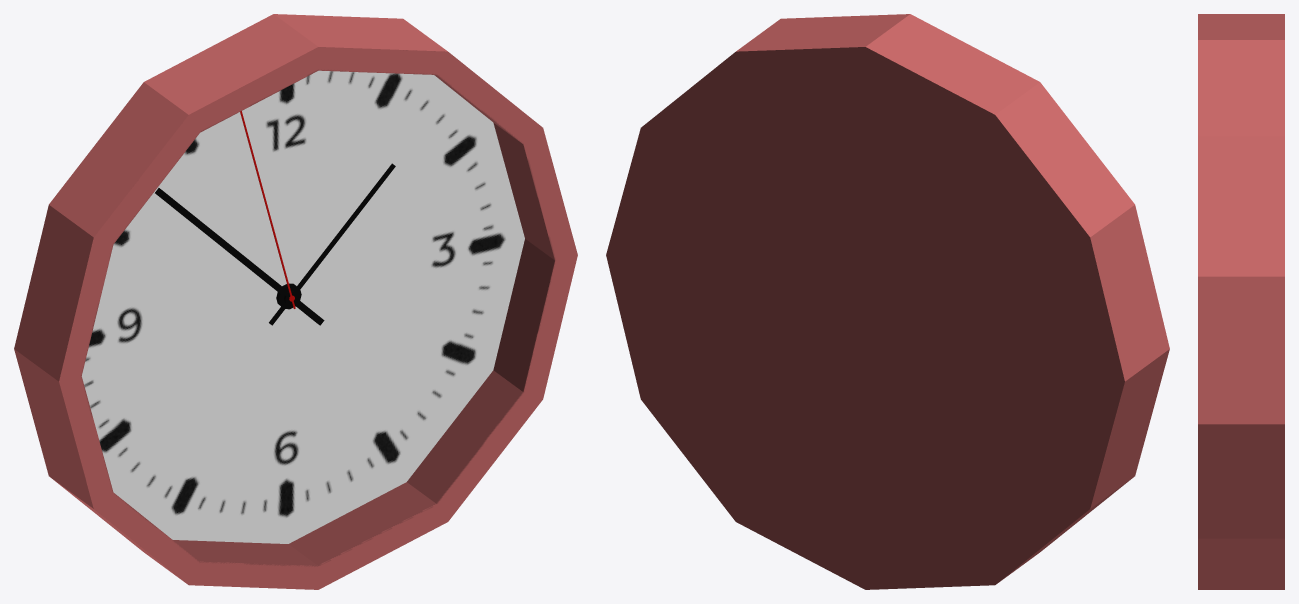
The model's file is Watch_Red.fbx.
3 renders of one model, left to right at view 1: azimuth 30°, elevation 25°; view 2: azimuth 150°, elevation 25°; view 3: azimuth 270°, elevation 25°, orthographic. The views are drawn at different scales.
Visible parts, largest first — view 1: Watch.004; view 2: Watch.004; view 3: Watch.004.
Part boxes in pixels (x1,y1,x2,y2): Watch.004: [14, 14, 577, 589]; Watch.004: [606, 14, 1169, 589]; Watch.004: [1198, 14, 1284, 589].
Size of the model in its own units: 30 by 30 by 4.5.
